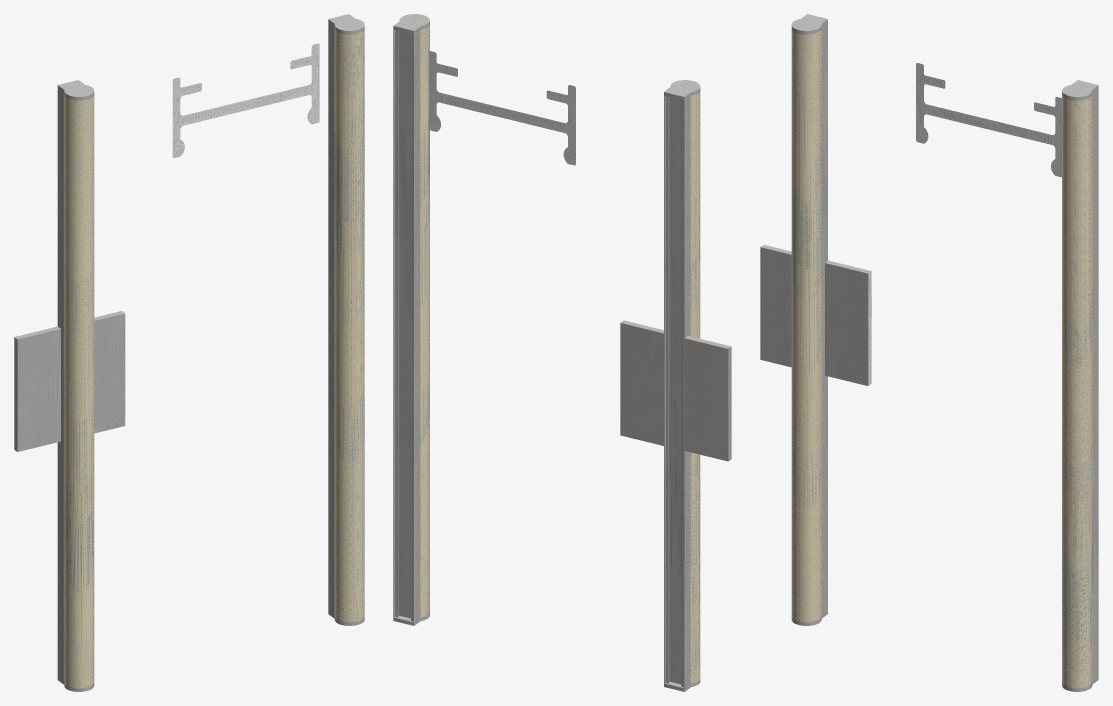
Rendered from light-1.dae.
The picture shows the model from 3 angles, left to right: view 1: azimuth 30°, elevation 25°; view 2: azimuth 150°, elevation 25°; view 3: azimuth 330°, elevation 25°; orthographic projection.
Parts seen in each view (by area): view 1: TW12-T1-1RE-24IN-27K-SN, group_7, group_3, group_10, group_2, group_6, group_0, group_4, group_8; view 2: group_10, group_6, TW12-T1-1RE-24IN-27K-SN, group_3, group_7, group_2, group_0, group_4, group_8; view 3: group_7, TW12-T1-1RE-24IN-27K-SN, group_2, group_10, group_3, group_6, group_0, group_8, group_4.
Boxes of the visible parts, x1,y1,x2,y2 form: TW12-T1-1RE-24IN-27K-SN: [334, 27, 364, 622]; group_7: [64, 93, 94, 688]; group_3: [14, 326, 60, 451]; group_10: [328, 23, 334, 614]; group_2: [94, 311, 125, 433]; group_6: [57, 89, 63, 680]; group_0: [172, 43, 319, 157]; group_4: [57, 80, 94, 100]; group_8: [328, 14, 364, 34]; group_10: [393, 29, 420, 622]; group_6: [664, 95, 690, 688]; TW12-T1-1RE-24IN-27K-SN: [420, 25, 429, 617]; group_3: [684, 336, 731, 461]; group_7: [690, 91, 700, 683]; group_2: [620, 320, 663, 445]; group_0: [428, 51, 575, 165]; group_4: [664, 80, 700, 100]; group_8: [393, 14, 429, 34]; group_7: [791, 27, 821, 622]; TW12-T1-1RE-24IN-27K-SN: [1062, 93, 1092, 688]; group_2: [825, 260, 871, 385]; group_10: [1092, 89, 1098, 680]; group_3: [760, 245, 791, 367]; group_6: [822, 23, 827, 614]; group_0: [916, 63, 1061, 177]; group_8: [1062, 80, 1098, 100]; group_4: [791, 14, 827, 34].
Size of the model in its own units: 14.43 by 1.38 by 24.3.
